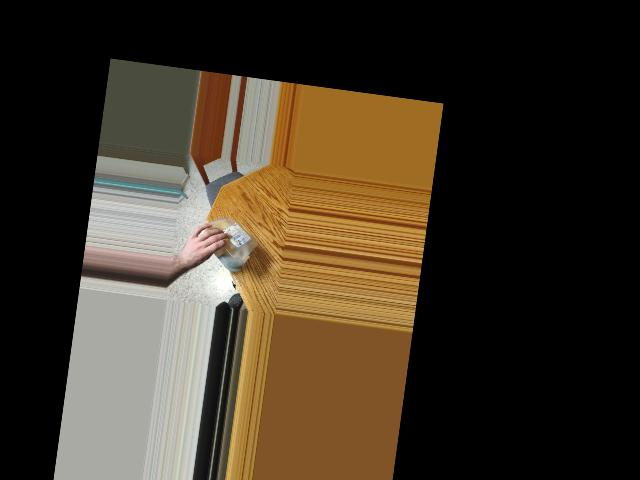cheese: (189, 211, 261, 271)
